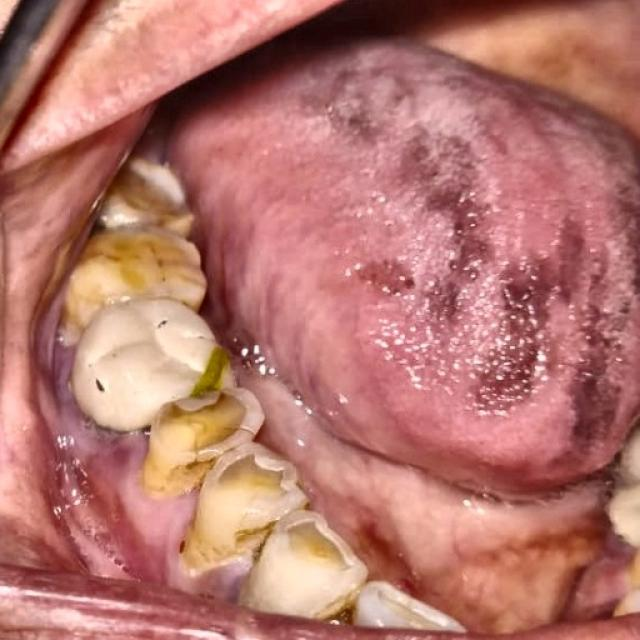leukoplakia-like-detection: (295, 31, 639, 476), (251, 355, 593, 629)
processing_area: (166, 19, 639, 634)
